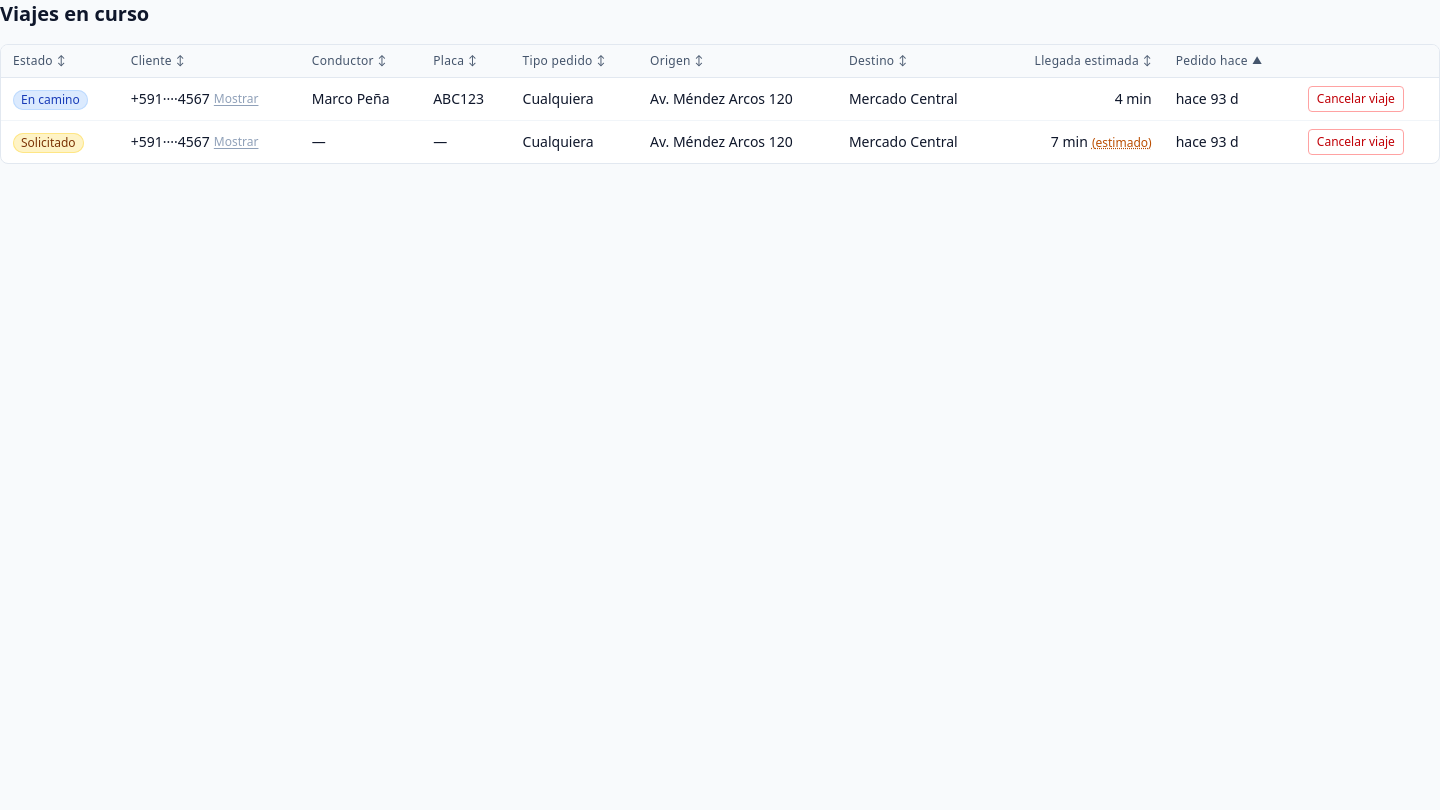
it: cancelación forzada › la confirmación nombra el viaje concreto
Click the button "Cancelar viaje" in the row of "En camino". click: point(1356, 99)
box: [1308,86,1404,112]
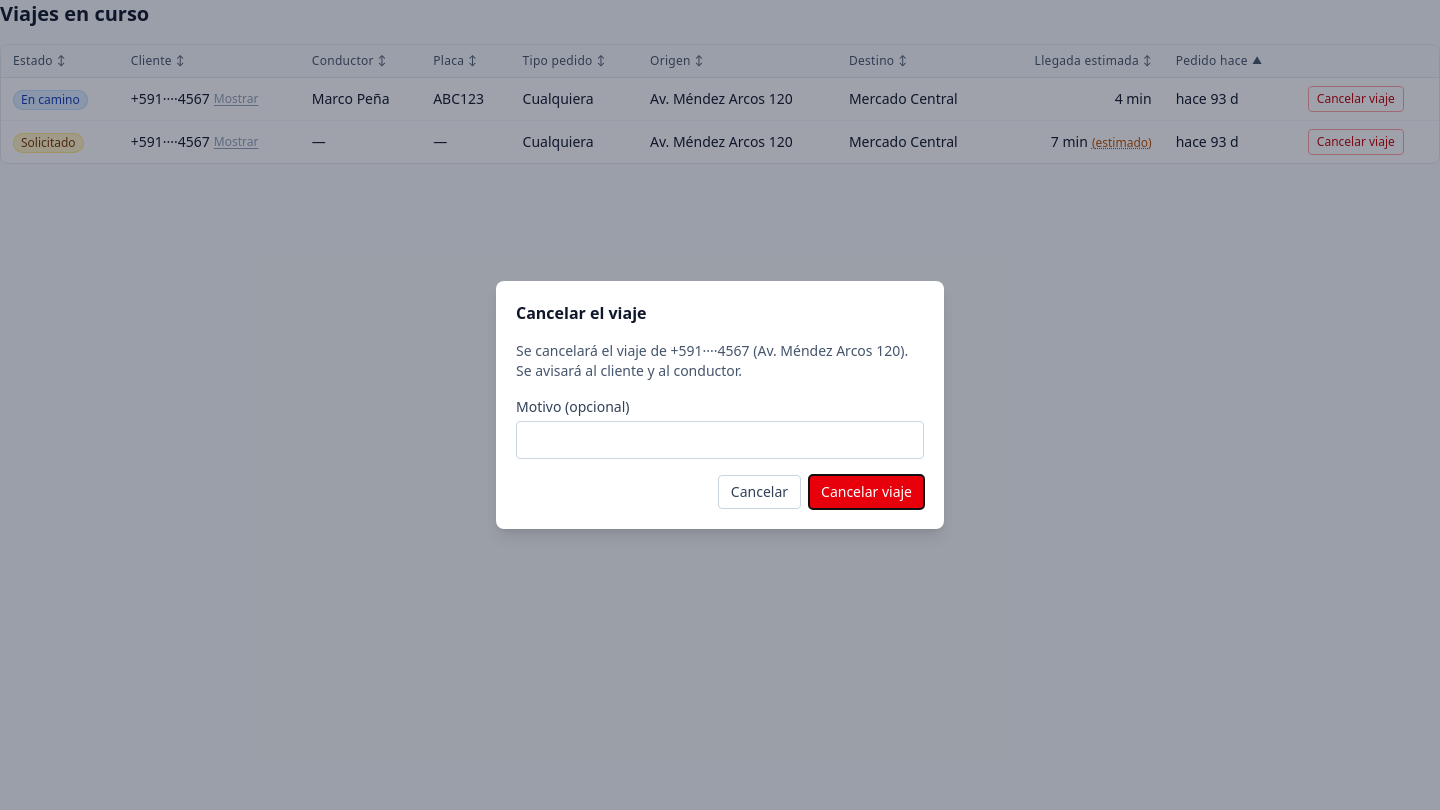
Expected: the text "+591····4567" is shown, [516,341,908,380]
